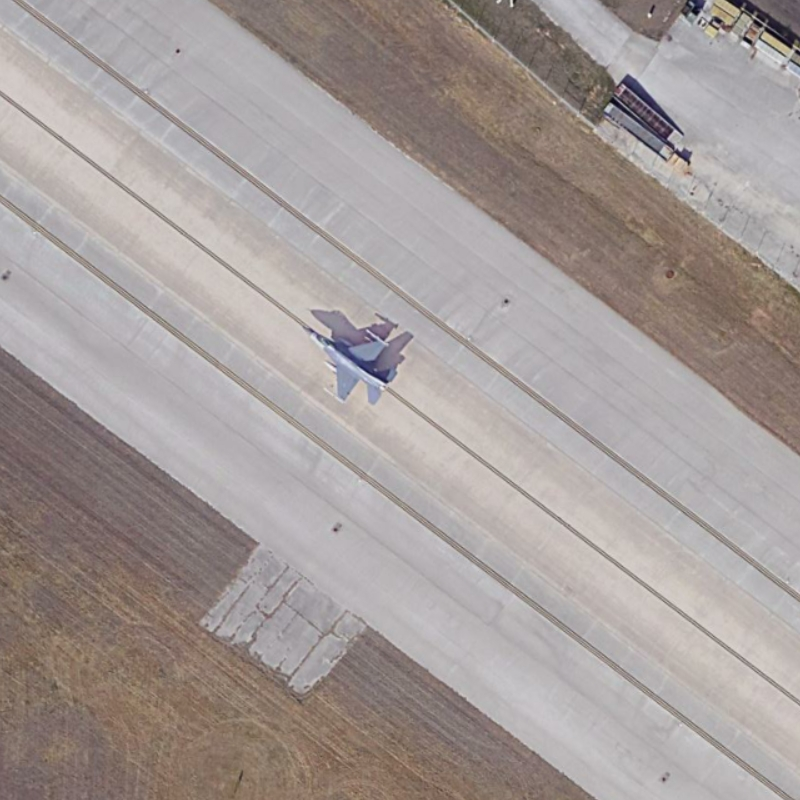A5: (297, 313, 407, 408)
